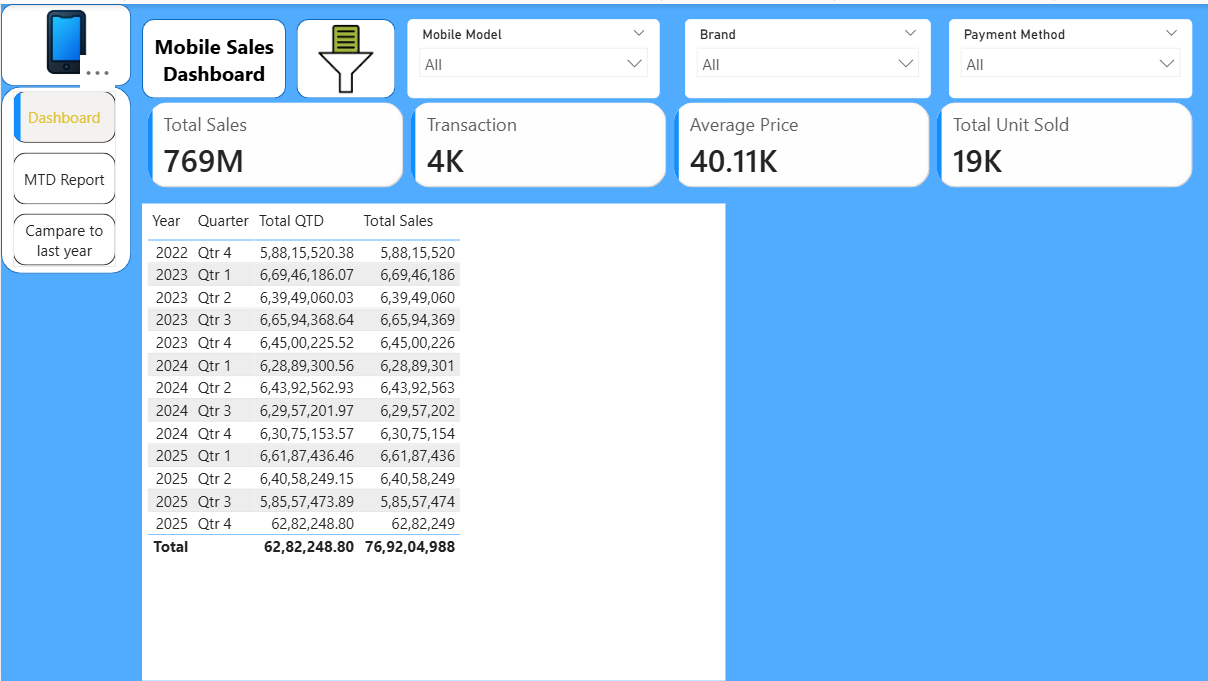

The page's visual inventory and layout, read from the dashboard file:
{"tool":"powerbi","page":{"name":"QTD Report","canvas":[1280,720],"ordinal":2},"visuals":[{"type":"shape","box":[149.5,15.9,152.7,84.3],"z":0},{"type":"shape","box":[0,0,138,86.9],"z":1000},{"type":"image","box":[0,0,138.4,81.1],"z":2000},{"type":"shape","box":[0,86.9,138,198.4],"z":3000},{"type":"cardVisual","fields":{"Data":["Sheet1.Total Sales","Sheet1.Transaction","Sheet1.Average Price","Sheet1.Total Unit Sold"]},"box":[138.4,81.1,1142.1,130.4],"z":4000},{"type":"slicer","fields":{"Values":["Sheet1.Mobile Model"]},"box":[431.1,15.9,267.2,84.3],"z":5000},{"type":"slicer","fields":{"Values":["Sheet1.Brand"]},"box":[725.3,15.9,260.9,84.3],"z":6000},{"type":"slicer","fields":{"Values":["Sheet1.Payment Method"]},"box":[1005.3,15.9,257.7,84.3],"z":7000},{"type":"shape","box":[313.4,15.9,105,84.3],"z":8000},{"type":"image","box":[278.4,12.7,175,90.7],"z":9000},{"type":"tableEx","fields":{"Values":["Date.Date.Variation.Date Hierarchy.Year","Date.Date.Variation.Date Hierarchy.Quarter","Sheet1.Total QTD","Sheet1.Total Sales"]},"box":[149.5,211.6,618.7,505.8],"z":10000},{"type":"cardVisual","fields":{"Data":["Sheet1.Total Sales","Sheet1.Transaction","Sheet1.Average Price","Sheet1.Total Unit Sold"]},"box":[137.9,81.1,1142.1,130.4],"z":11000},{"type":"pageNavigator","box":[12.7,92.3,109.8,186.1],"z":12000}]}

Visuals, with their boxes on the page's 1280x720 design canvas (x1, y1, x2, y2). These are canvas units, not pixel positions in the 1208x681 screenshot, which may show the page scaled, cropped or inside an application window:
shape: {"x1": 150, "y1": 16, "x2": 302, "y2": 100}
shape: {"x1": 0, "y1": 0, "x2": 138, "y2": 87}
image: {"x1": 0, "y1": 0, "x2": 138, "y2": 81}
shape: {"x1": 0, "y1": 87, "x2": 138, "y2": 285}
cardVisual - Sheet1.Total Sales x Sheet1.Transaction: {"x1": 138, "y1": 81, "x2": 1280, "y2": 212}
slicer - Sheet1.Mobile Model: {"x1": 431, "y1": 16, "x2": 698, "y2": 100}
slicer - Sheet1.Brand: {"x1": 725, "y1": 16, "x2": 986, "y2": 100}
slicer - Sheet1.Payment Method: {"x1": 1005, "y1": 16, "x2": 1263, "y2": 100}
shape: {"x1": 313, "y1": 16, "x2": 418, "y2": 100}
image: {"x1": 278, "y1": 13, "x2": 453, "y2": 103}
tableEx - Date.Date.Variation.Date Hierarchy.Year x Date.Date.Variation.Date Hierarchy.Quarter: {"x1": 150, "y1": 212, "x2": 768, "y2": 717}
cardVisual - Sheet1.Total Sales x Sheet1.Transaction: {"x1": 138, "y1": 81, "x2": 1280, "y2": 212}
pageNavigator: {"x1": 13, "y1": 92, "x2": 122, "y2": 278}
